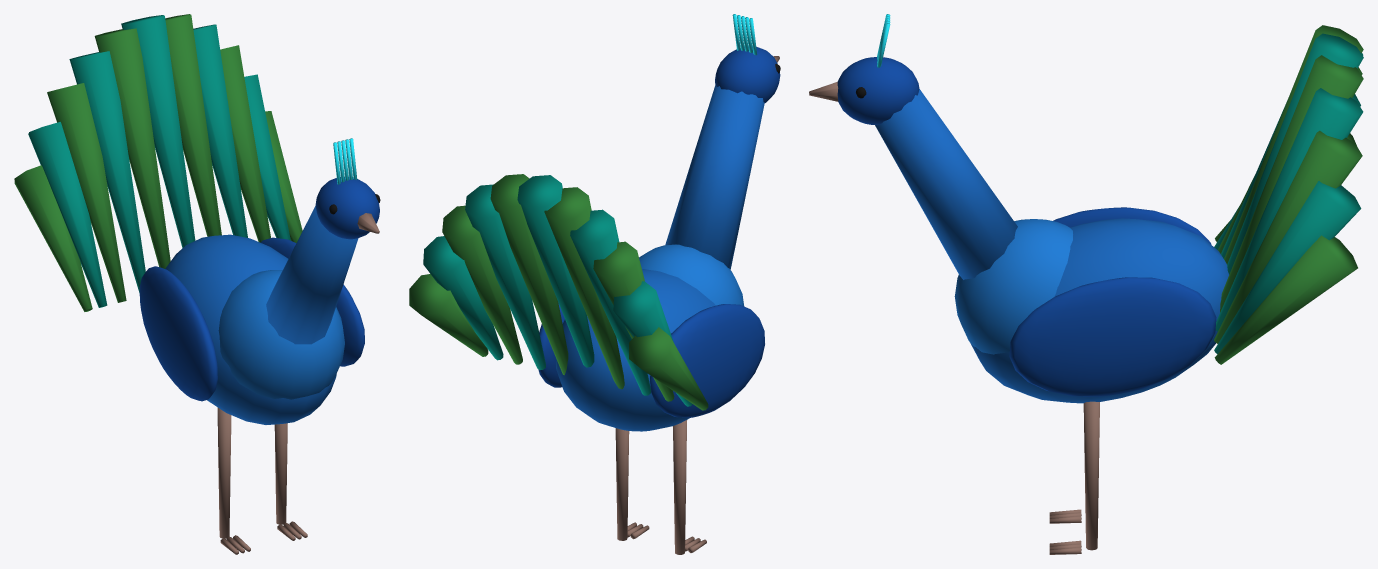
File: peacock.glb
The picture shows the model from 3 angles, left to right: view 1: azimuth 30°, elevation 25°; view 2: azimuth 150°, elevation 25°; view 3: azimuth 270°, elevation 25°; orthographic projection. The views are drawn at different scales.
Visible parts, largest first — view 1: peacock; view 2: peacock; view 3: peacock.
Boxes of the visible parts, <box> form: peacock: <box>14,14,380,554</box>; peacock: <box>409,14,780,554</box>; peacock: <box>809,14,1363,554</box>.
Size of the model in its own units: 0.9521 by 1.62 by 1.58.
